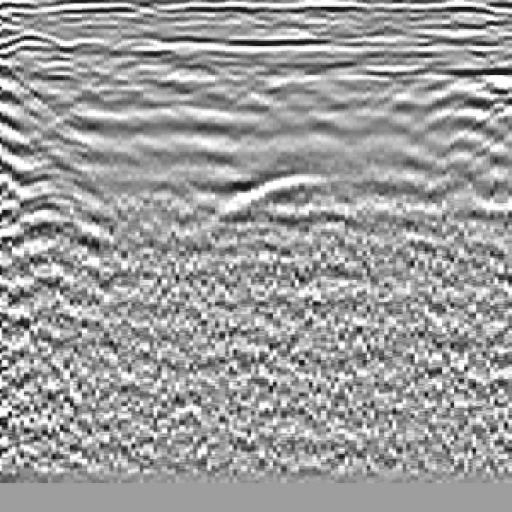metalic: (201, 142, 357, 265)
nonmetalic: (1, 27, 90, 274)
